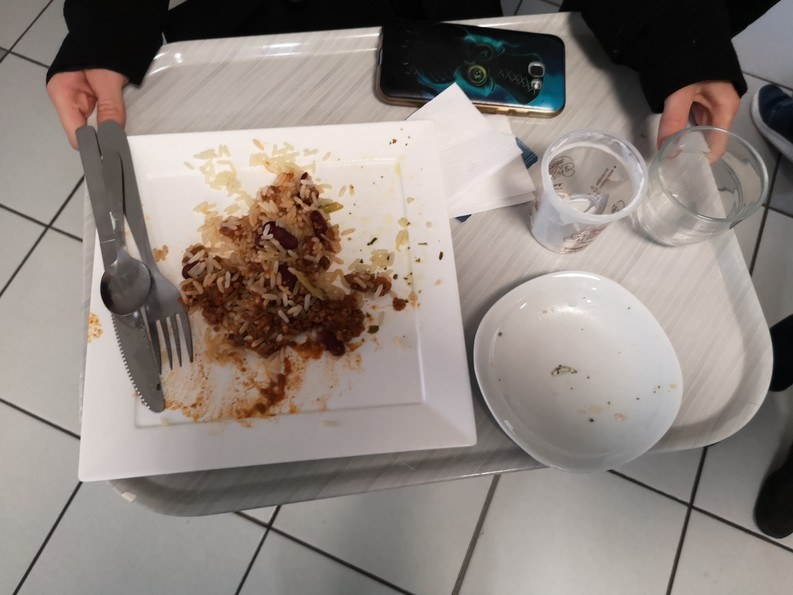cup: (648, 123, 776, 262)
cutlery: (61, 121, 200, 413)
orga: (187, 152, 405, 375)
trash: (411, 93, 539, 233), (536, 132, 645, 260)
